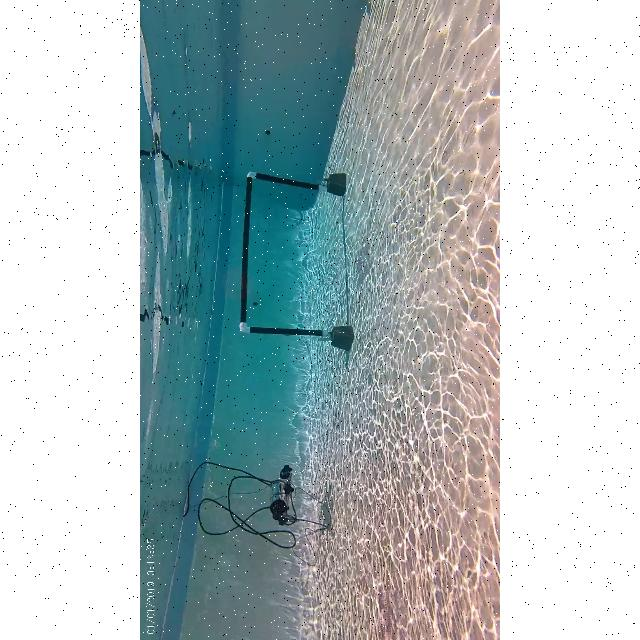prequal gate: (240, 171, 328, 337)
prequal gate leg l: (238, 321, 336, 345)
prequal gate leg r: (245, 163, 327, 193)
